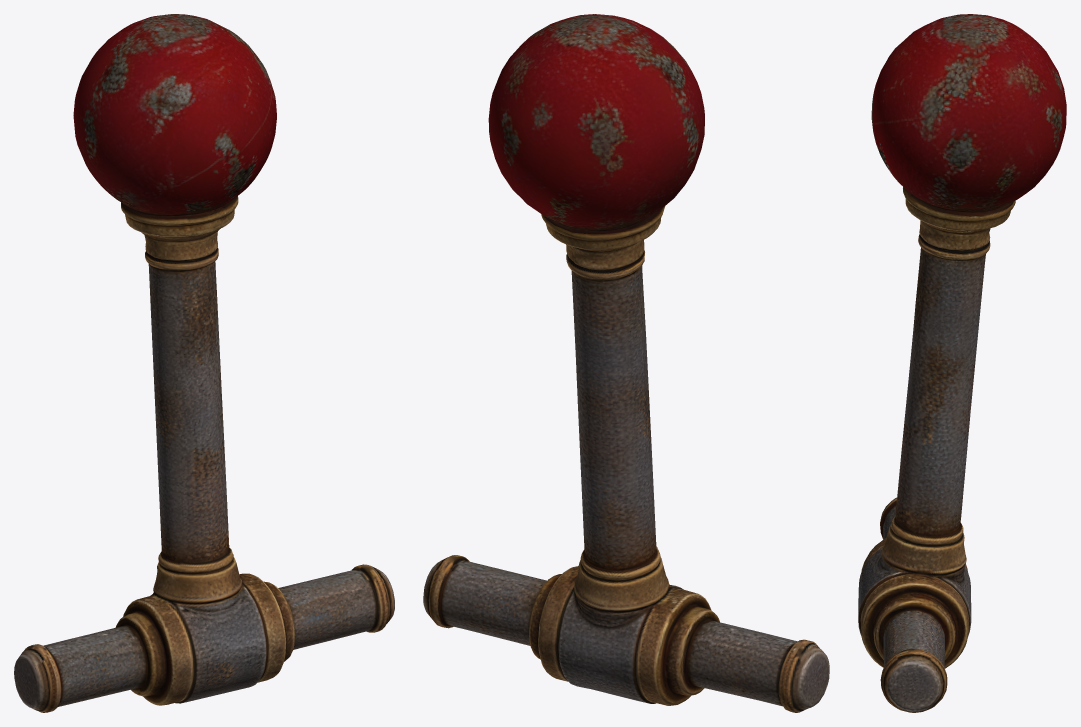
The model's file is lever.glb.
The picture shows the model from 3 angles, left to right: view 1: azimuth 30°, elevation 25°; view 2: azimuth 150°, elevation 25°; view 3: azimuth 270°, elevation 25°; orthographic projection. The views are drawn at different scales.
Visible parts, largest first — view 1: Mesh_0; view 2: Mesh_0; view 3: Mesh_0.
Part boxes in pixels (left/top/right/bottom): Mesh_0: left=14, top=14, right=394, bottom=712; Mesh_0: left=423, top=14, right=829, bottom=712; Mesh_0: left=858, top=14, right=1066, bottom=712.
Bounding box in the file's own units: 0.6375 × 1.1 × 0.3301.
1 material, 1 textured.
